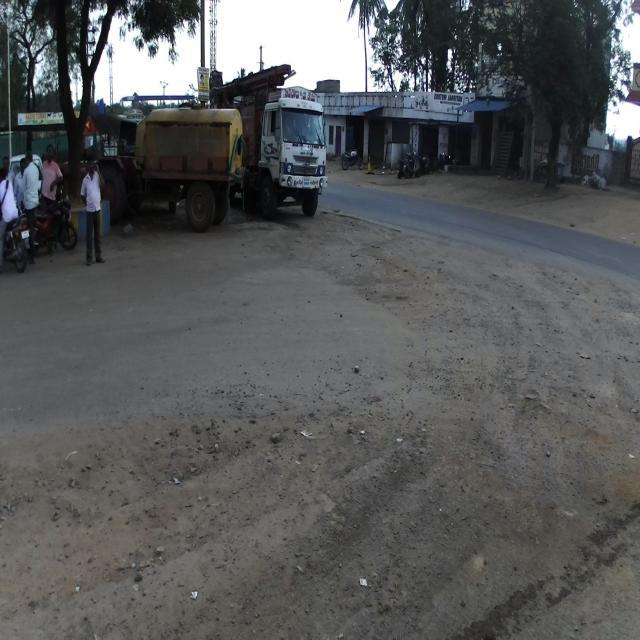pothole: (0, 354, 639, 636)
